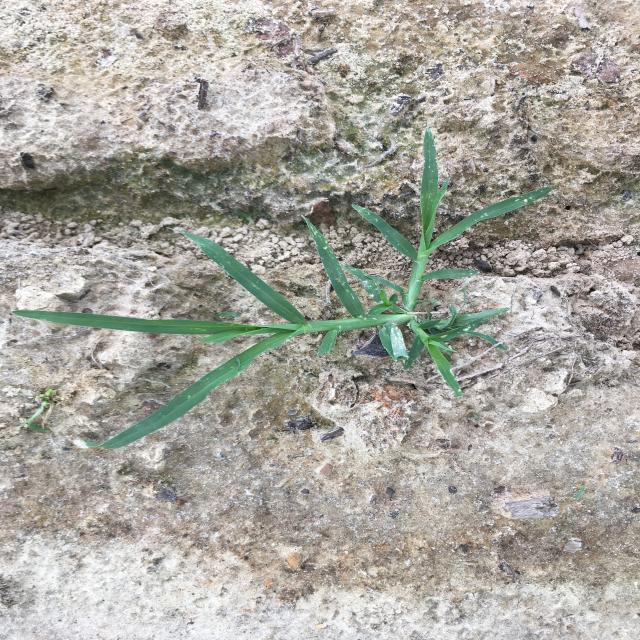Goosegrass: (11, 128, 556, 450)
